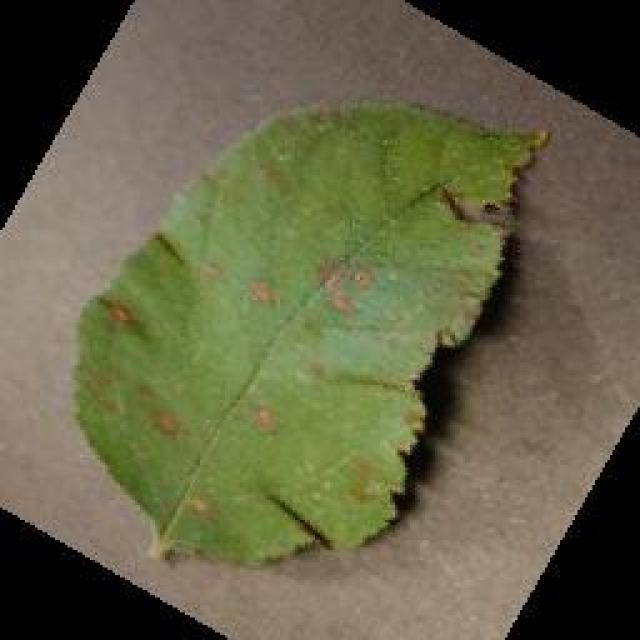apple cedar apple rust: (70, 95, 552, 567)
